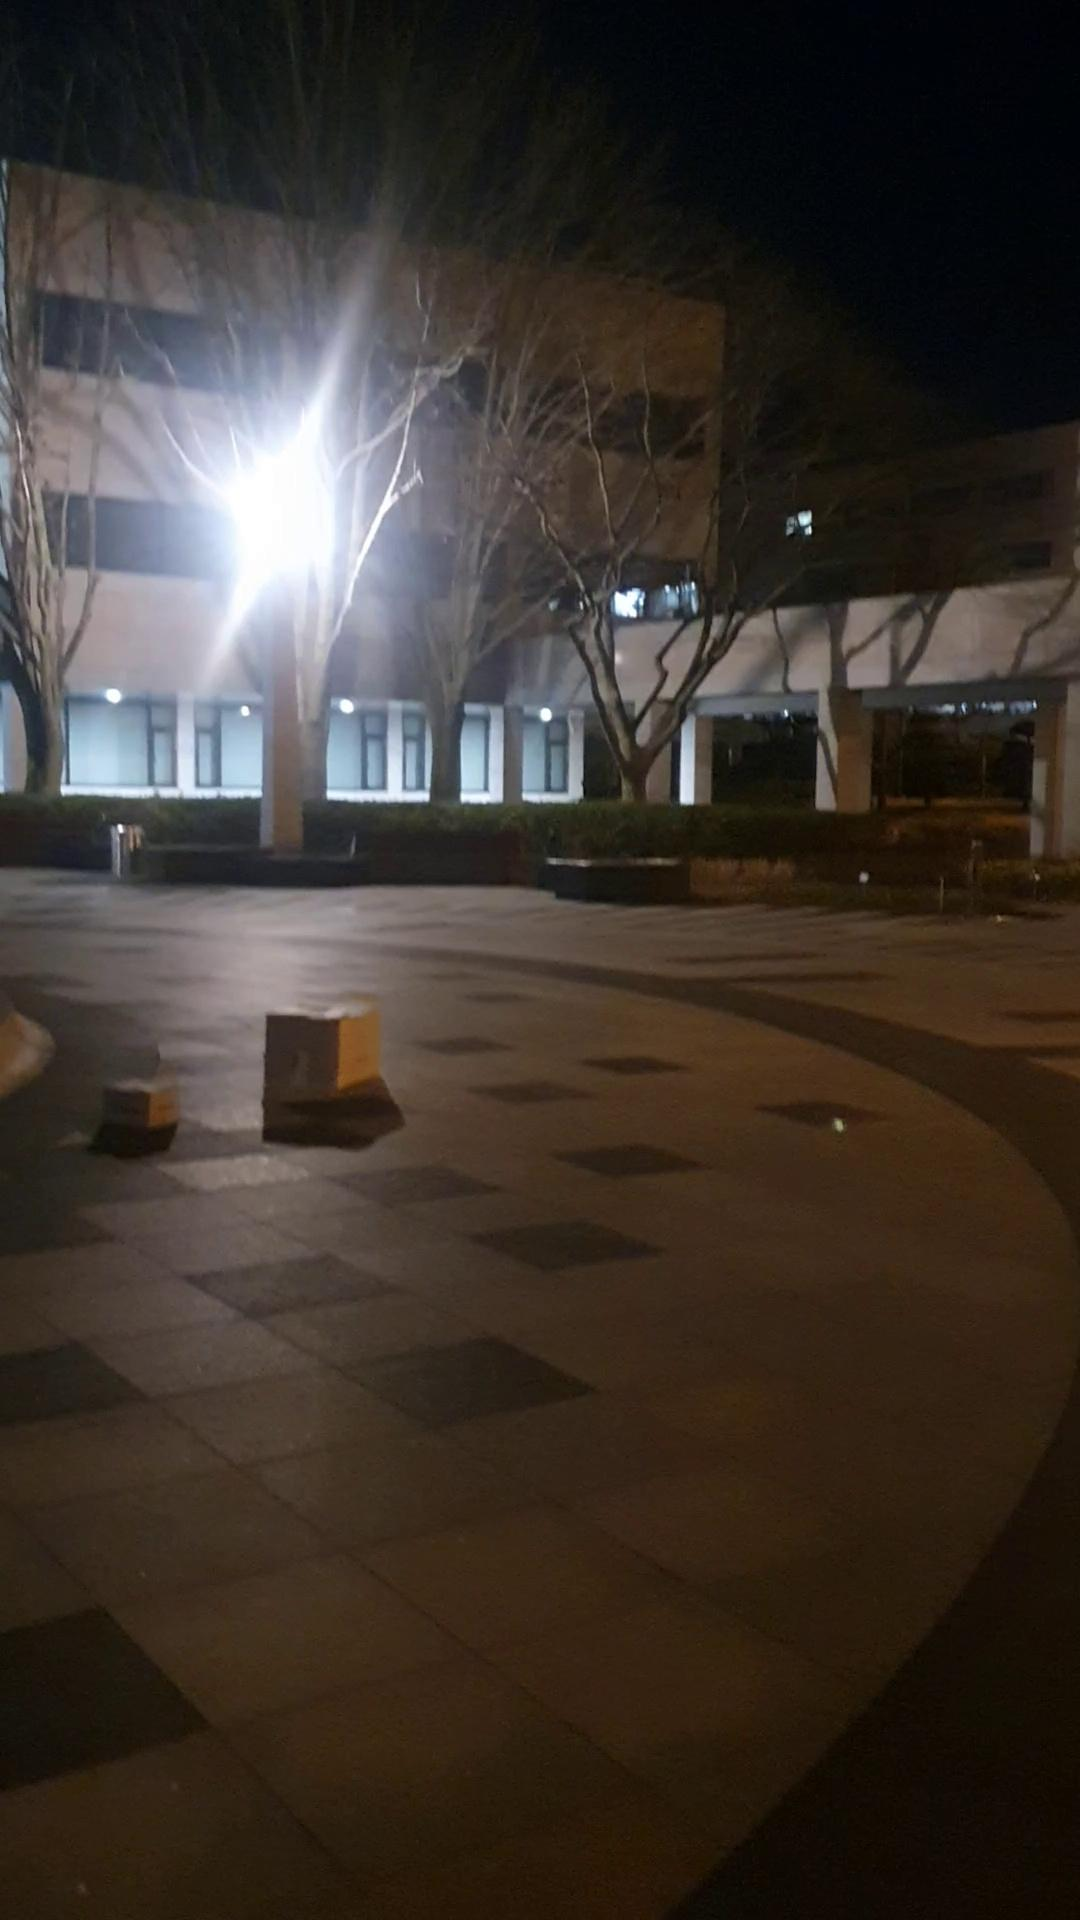Box: (262, 990, 400, 1110), (105, 1068, 189, 1143)
